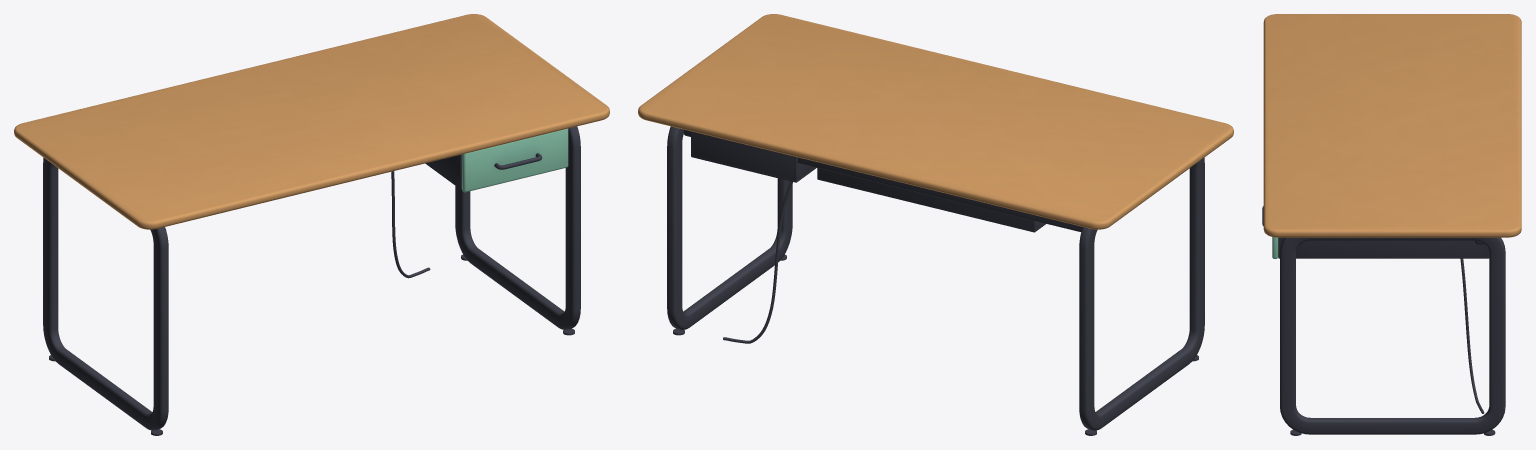
The model's file is office_desk.glb.
3 renders of one model, left to right at view 1: azimuth 30°, elevation 25°; view 2: azimuth 150°, elevation 25°; view 3: azimuth 270°, elevation 25°, orthographic. The views are drawn at different scales.
Visible parts, largest first — view 1: office-desk_body, office-desk_drawer; view 2: office-desk_body; view 3: office-desk_body.
Boxes of the visible parts, box(x1,y1,x2,y2) form: office-desk_body: box(14, 14, 609, 435); office-desk_drawer: box(462, 128, 568, 192); office-desk_body: box(638, 14, 1233, 435); office-desk_body: box(1263, 14, 1521, 435).
Size of the model in its own units: 1.6 by 0.74 by 0.8045.
Materials: 2 (2 with a texture image).
